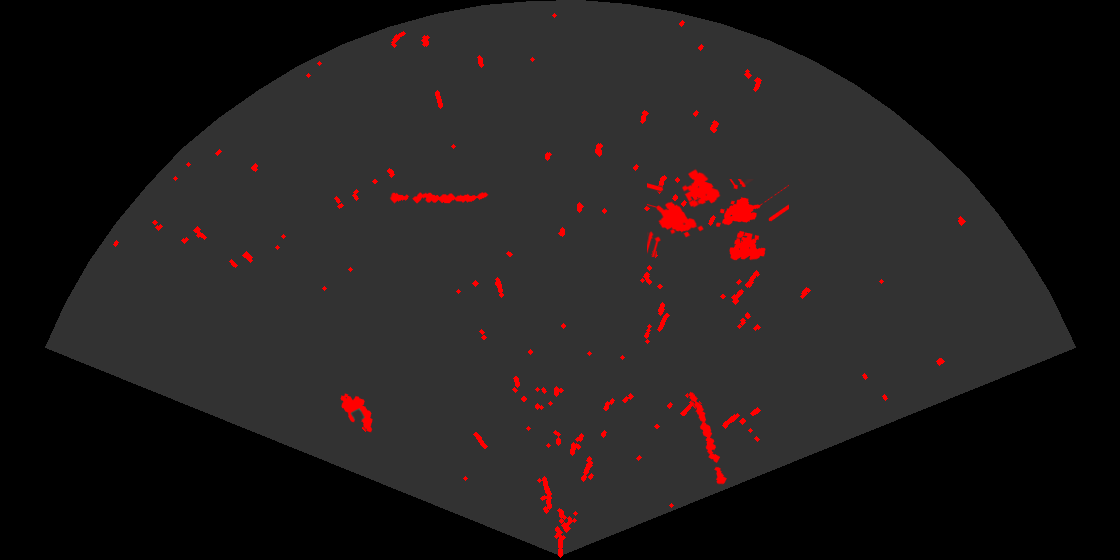AUV: (339, 392, 374, 434)
cage: (647, 167, 722, 257), (714, 179, 789, 262)
chain: (687, 390, 728, 487), (389, 191, 489, 205)
